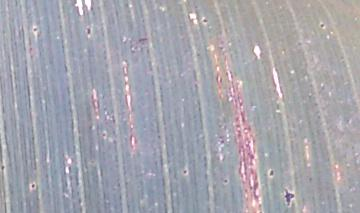tarspot: (281, 184, 297, 208), (30, 20, 40, 33), (85, 25, 92, 37), (306, 175, 314, 184), (181, 166, 189, 175), (1, 161, 7, 172), (29, 181, 37, 189), (99, 131, 108, 138), (269, 168, 275, 178), (202, 16, 209, 24), (319, 21, 325, 28), (223, 178, 229, 185), (298, 41, 303, 47)
